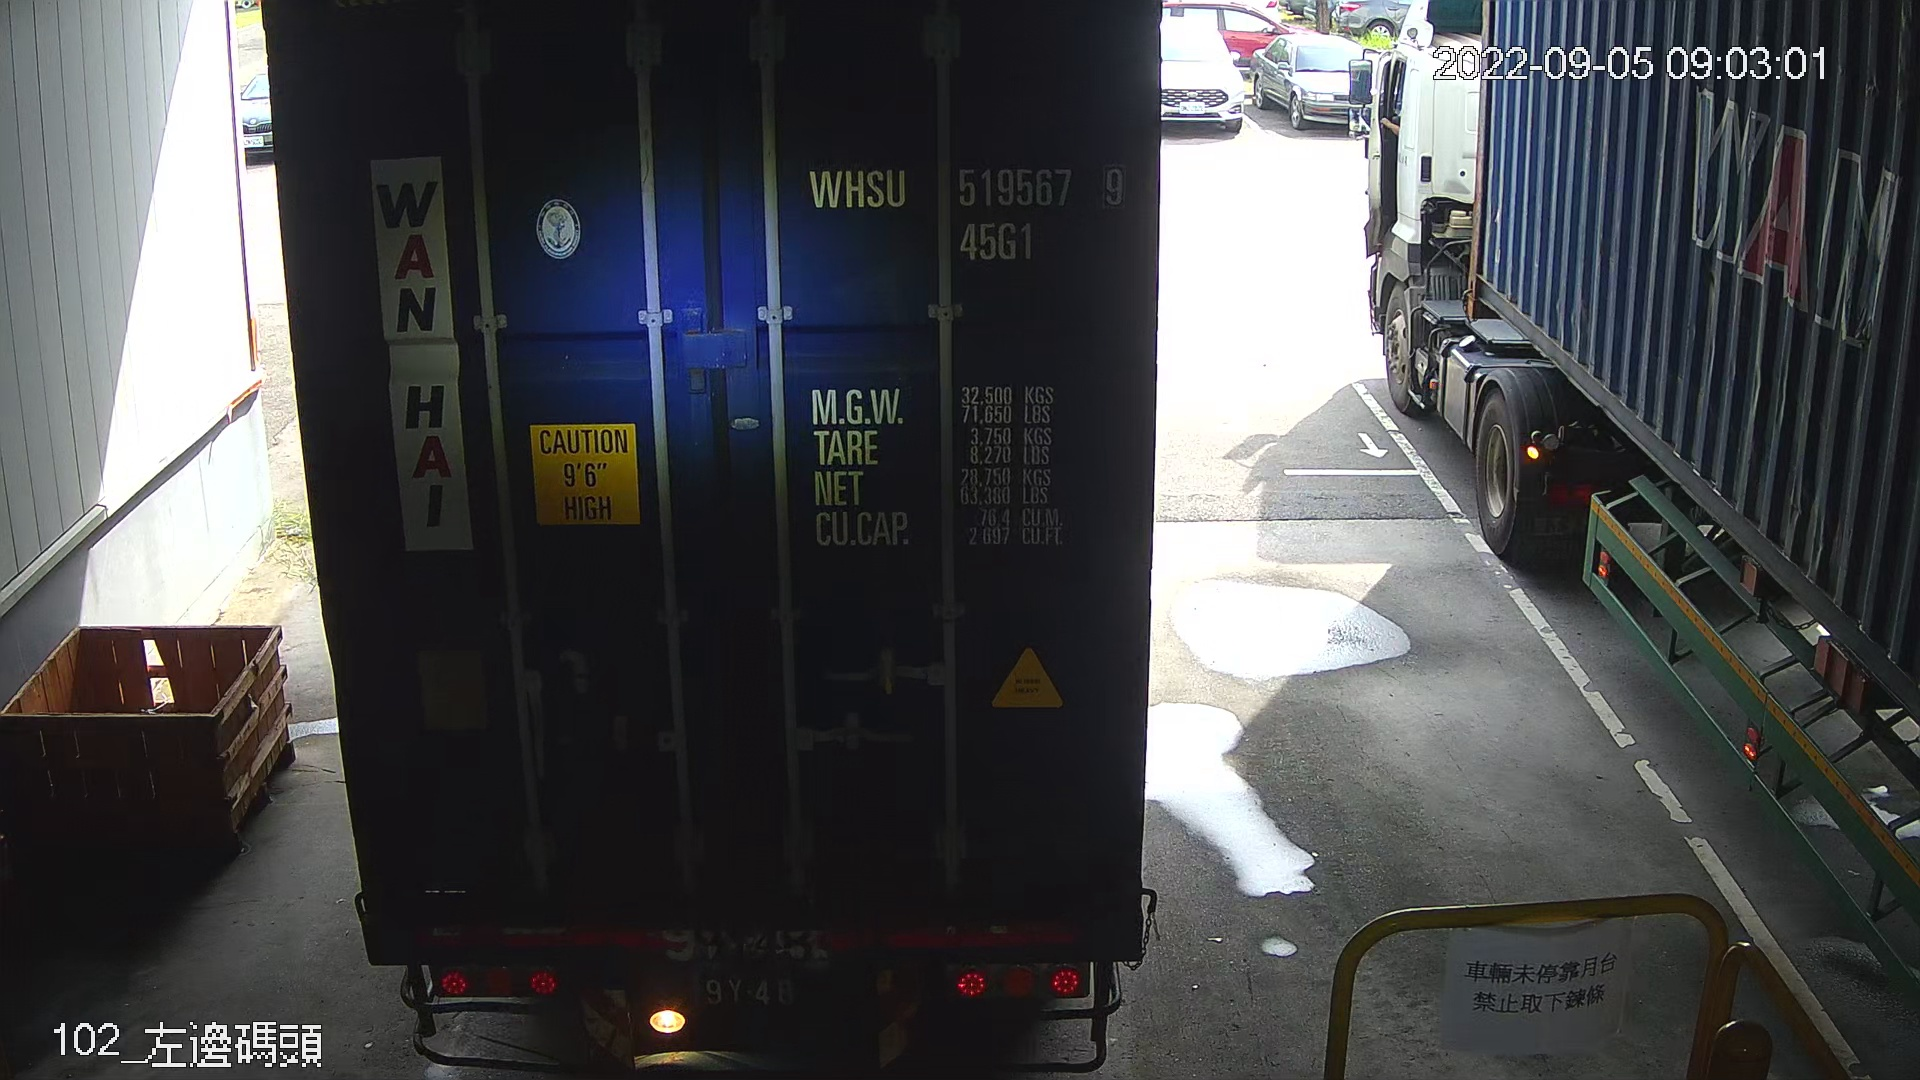container: (796, 145, 1137, 276)
